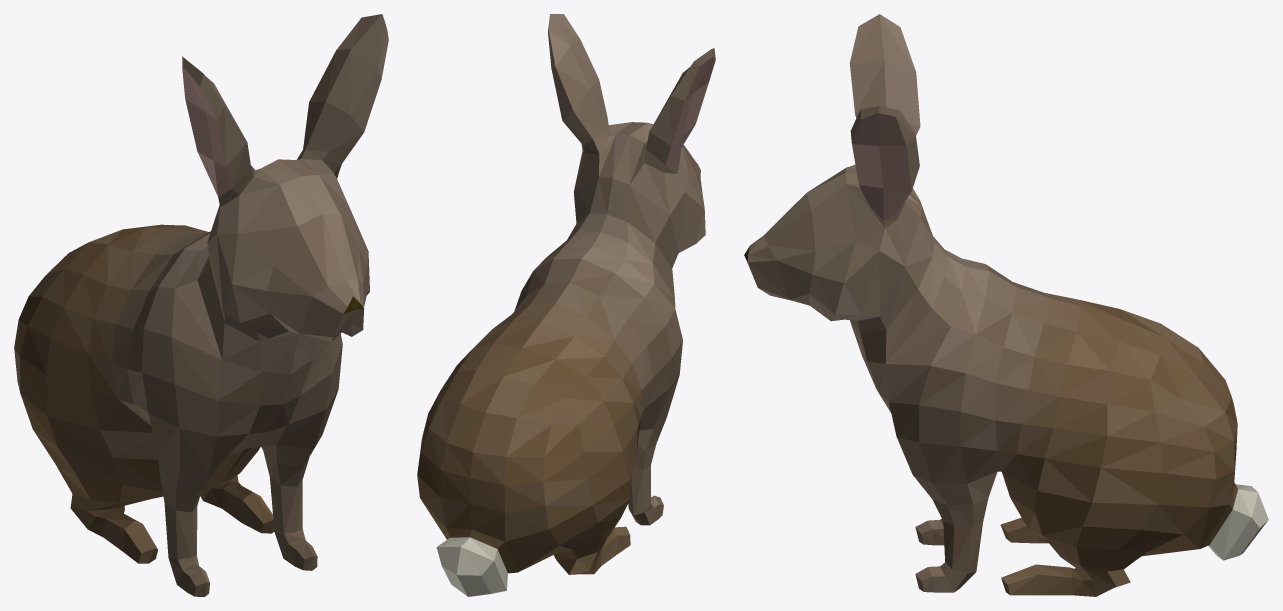
Rendered from rabbit.glb.
3 views of the same model, side by side, from view 1: azimuth 30°, elevation 25°; view 2: azimuth 150°, elevation 25°; view 3: azimuth 270°, elevation 25° (orthographic). The views are drawn at different scales.
Parts seen in each view (by area): view 1: Cottontails_mesh; view 2: Cottontails_mesh; view 3: Cottontails_mesh.
Part boxes in pixels (<box>): Cottontails_mesh: <box>14,14,388,596</box>; Cottontails_mesh: <box>417,14,715,596</box>; Cottontails_mesh: <box>744,14,1268,596</box>.
Size of the model in its own units: 3.23 by 7.63 by 7.13.
